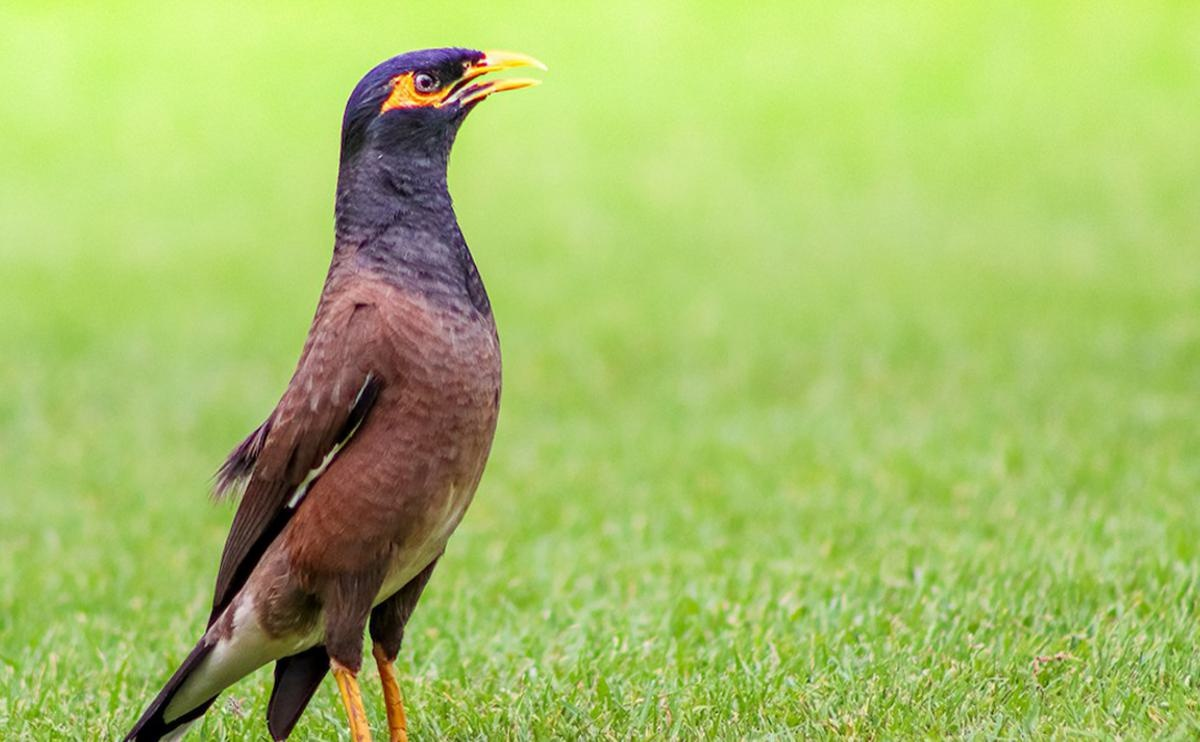myna: (166, 26, 575, 742)
